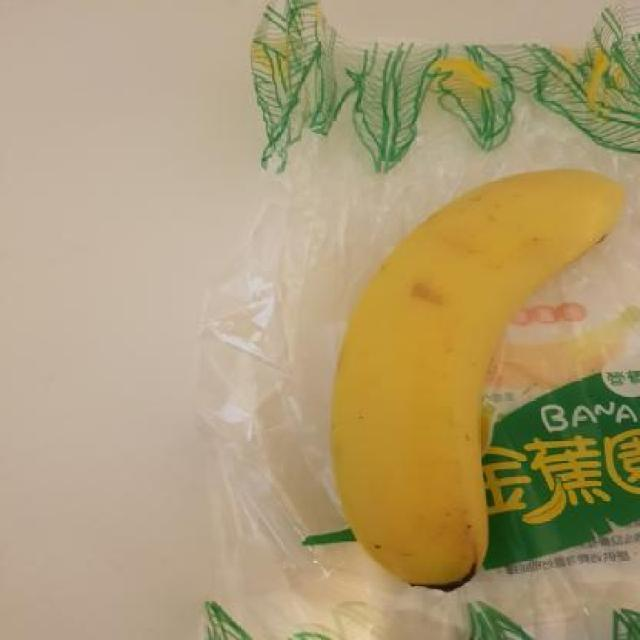Banana: (323, 159, 631, 593)
